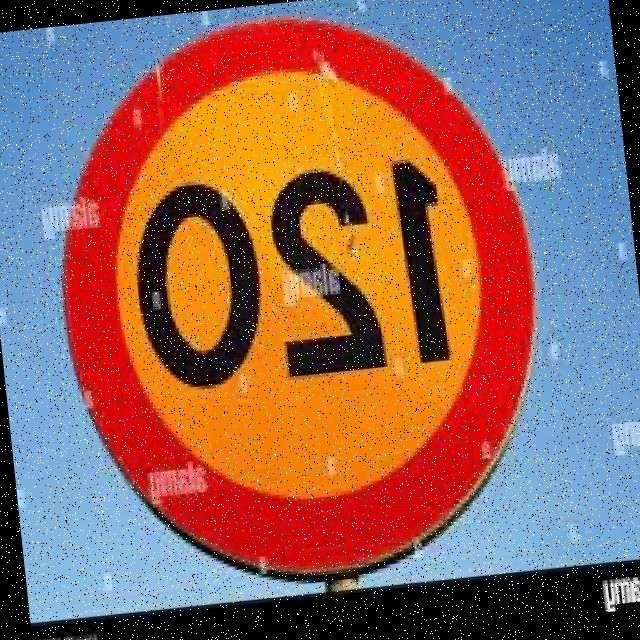speed_limit_120: (30, 0, 571, 605)
